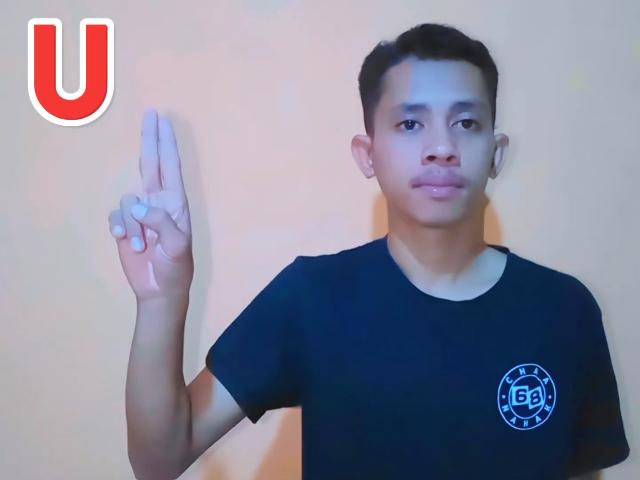U: (104, 101, 212, 294)
